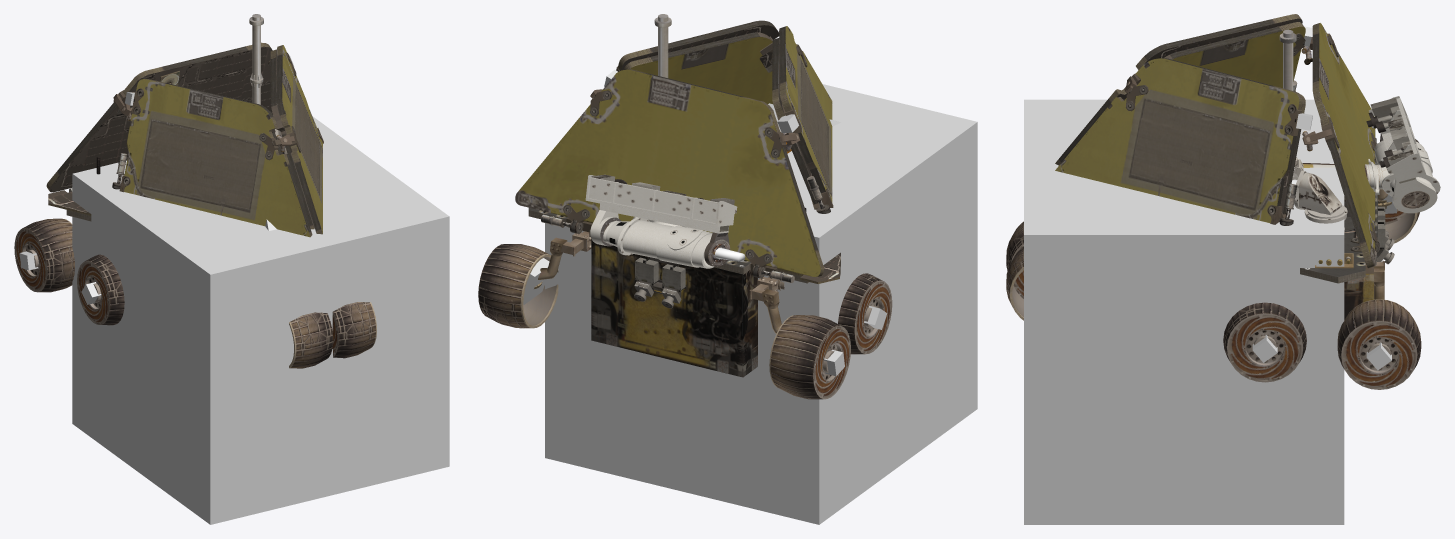
Rendered from Mars Exploration Rover - Spirit and Opportunity.glb.
The picture shows the model from 3 angles, left to right: view 1: azimuth 30°, elevation 25°; view 2: azimuth 150°, elevation 25°; view 3: azimuth 270°, elevation 25°; orthographic projection. The views are drawn at different scales.
Visible parts, largest first — view 1: _root, panels_left_front, panels_rear, panels_right_front, suspension_left_rear_wheel, suspension_left_middle_wheel, suspension_right_front_wheel, suspension_left_front_wheel, body, panels_right_rear; view 2: _root, panels_rear, body, mast_top, panels_left_front, panels_right_rear, suspension_left_rear_wheel, suspension_right_rear_wheel, mast_neck, suspension_left_middle_wheel, panels_right_front, panels_left_rear (+3 smaller); view 3: _root, panels_right_front, panels_rear, suspension_right_rear_wheel, suspension_right_middle_wheel, panels_left_rear, body, mast_top, panels_left_front, mast_neck, HGAA_top, suspension_right_front_wheel (+2 smaller).
Boxes of the visible parts, <box> form: _root: <box>72,116,449,524</box>; panels_left_front: <box>112,79,312,237</box>; panels_rear: <box>46,42,272,192</box>; panels_right_front: <box>276,45,323,234</box>; suspension_left_rear_wheel: <box>14,218,74,292</box>; suspension_left_middle_wheel: <box>77,254,124,325</box>; suspension_right_front_wheel: <box>332,302,376,358</box>; suspension_left_front_wheel: <box>289,312,333,368</box>; body: <box>48,14,263,221</box>; panels_right_rear: <box>270,49,314,229</box>; _root: <box>545,84,977,524</box>; panels_rear: <box>515,69,823,276</box>; body: <box>528,14,840,377</box>; mast_top: <box>585,174,745,266</box>; panels_left_front: <box>779,26,833,213</box>; panels_right_rear: <box>623,32,772,103</box>; suspension_left_rear_wheel: <box>769,315,850,399</box>; suspension_right_rear_wheel: <box>478,244,558,328</box>; mast_neck: <box>617,217,713,268</box>; suspension_left_middle_wheel: <box>838,273,892,354</box>; panels_right_front: <box>616,20,779,71</box>; panels_left_rear: <box>772,38,819,209</box>; _root: <box>1024,99,1344,524</box>; panels_right_front: <box>1055,58,1302,225</box>; panels_rear: <box>1301,23,1376,268</box>; suspension_right_rear_wheel: <box>1337,299,1421,389</box>; suspension_right_middle_wheel: <box>1223,302,1306,382</box>; panels_left_rear: <box>1139,22,1305,88</box>; body: <box>1279,29,1394,319</box>; mast_top: <box>1366,96,1437,213</box>; panels_left_front: <box>1055,14,1302,165</box>; mast_neck: <box>1294,140,1440,196</box>; HGAA_top: <box>1291,170,1341,215</box>; suspension_right_front_wheel: <box>1006,246,1023,320</box>.
Size of the model in its own units: 1.28 by 1.55 by 1.36.
9 materials, 7 textured.
